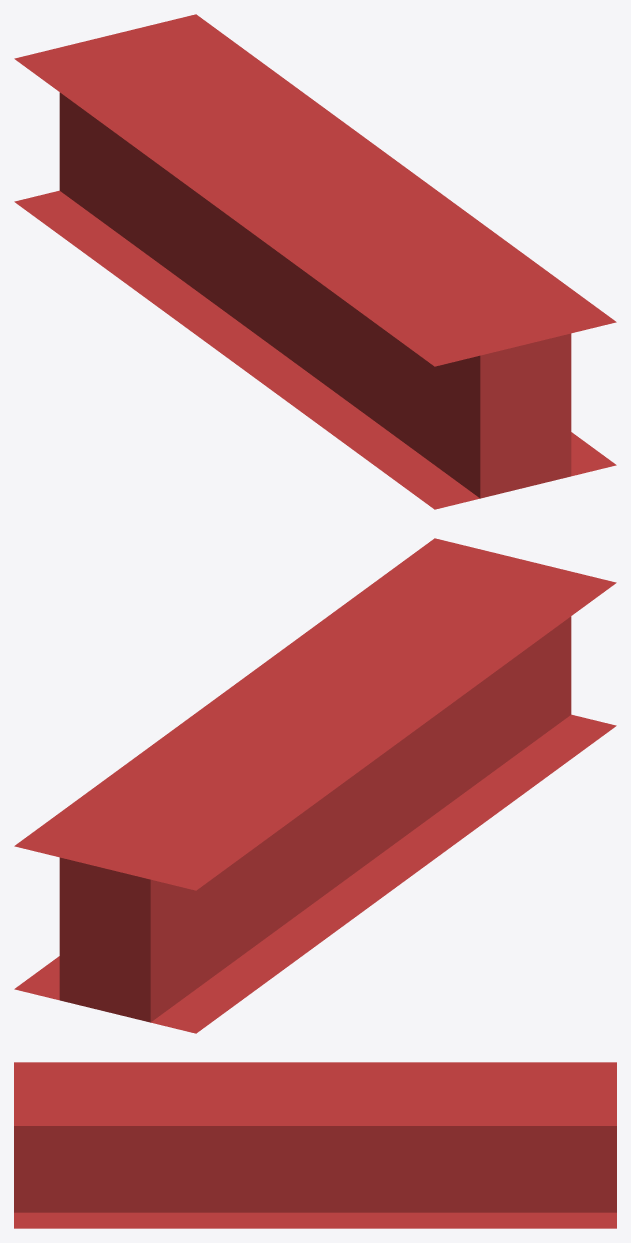
File: beam.fbx
The picture shows the model from 3 angles, top to bottom: view 1: azimuth 30°, elevation 25°; view 2: azimuth 150°, elevation 25°; view 3: azimuth 270°, elevation 25°; orthographic projection. The views are drawn at different scales.
Visible parts, largest first — view 1: plane_1, cube, plane; view 2: plane_1, cube, plane; view 3: cube, plane_1, plane.
Boxes of the visible parts, left/top/right/bottom form: plane_1: left=14, top=14, right=616, bottom=366; cube: left=59, top=92, right=571, bottom=498; plane: left=14, top=190, right=616, bottom=509; plane_1: left=14, top=538, right=616, bottom=890; cube: left=59, top=616, right=571, bottom=1022; plane: left=14, top=714, right=616, bottom=1033; cube: left=14, top=1126, right=616, bottom=1212; plane_1: left=14, top=1062, right=616, bottom=1125; plane: left=14, top=1212, right=616, bottom=1228.
Size of the model in its own units: 25 by 18.75 by 100.
1 material, 1 textured.
